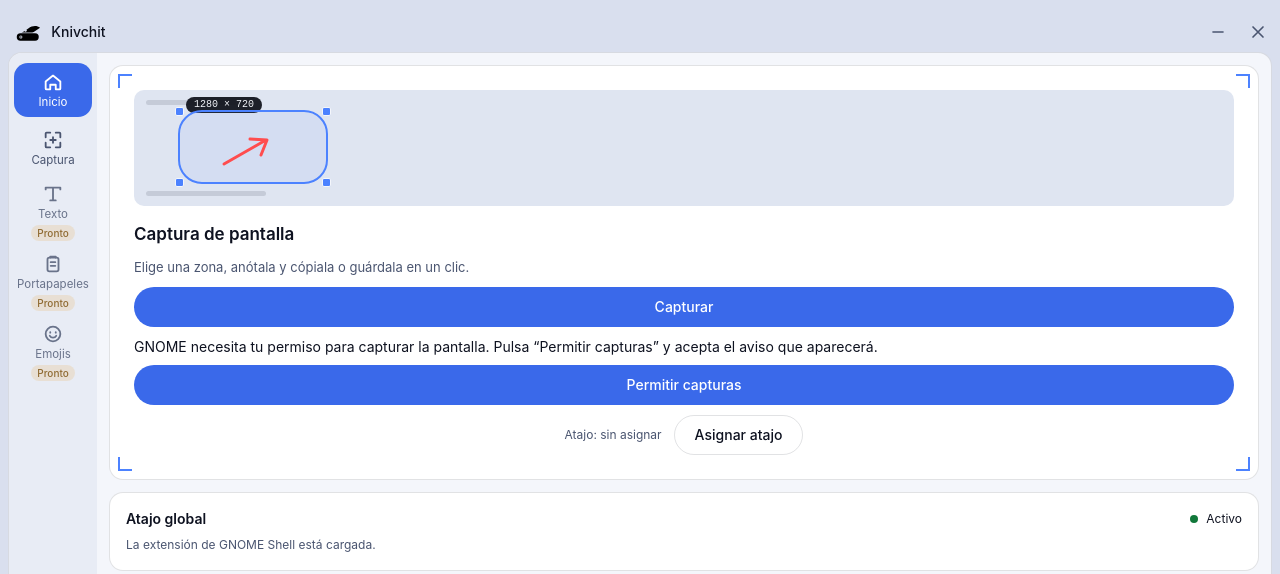
Scenario: permiso de captura — estados de la tarjeta de Inicio › «Permitir capturas» pide el permiso; al concederse el aviso desaparece
Click the button "Permitir capturas".
click(684, 385)  # box x1=134 y1=365 x2=1234 y2=405
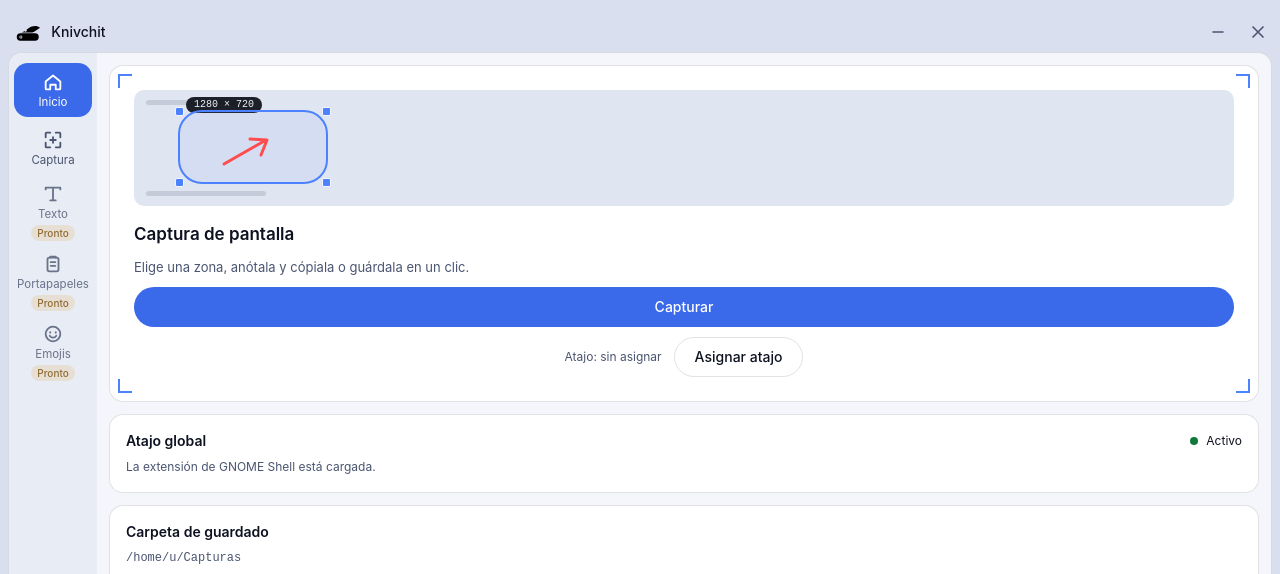
Expected: the message "Permitir capturas" is gone
Expected: the text "GNOME necesita tu permiso para capturar la pantalla. Pulsa “Permitir capturas” y acepta el aviso que aparecerá." is gone
